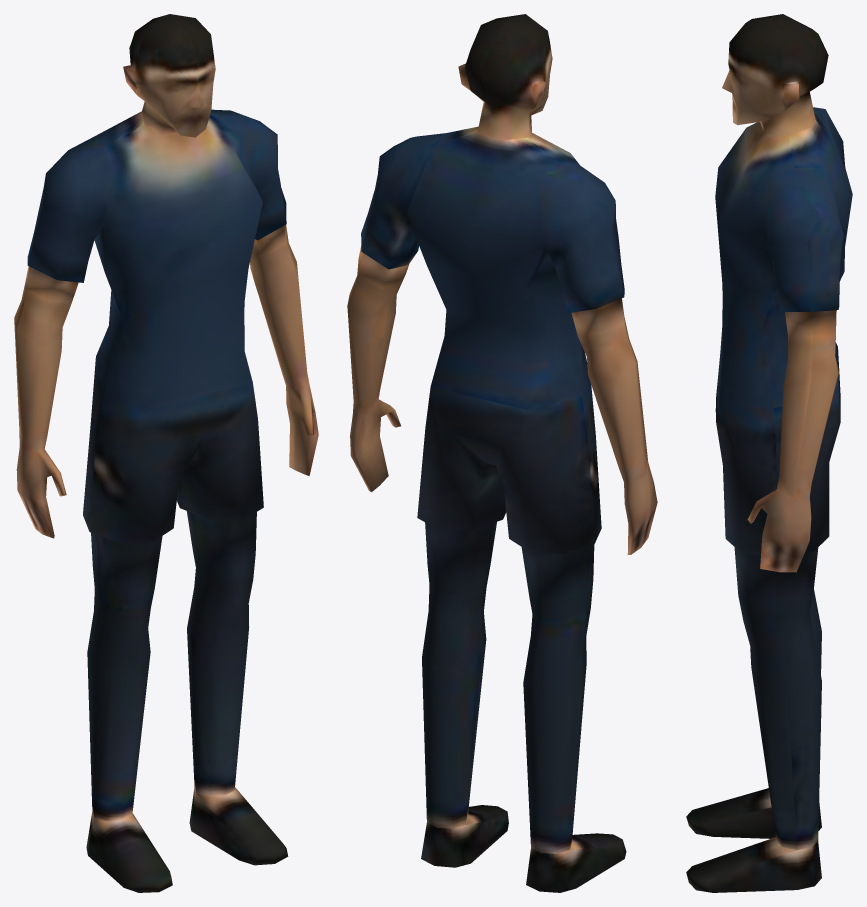
The model's file is NPC.fbx.
3 views of the same model, side by side, from view 1: azimuth 30°, elevation 25°; view 2: azimuth 150°, elevation 25°; view 3: azimuth 270°, elevation 25° (orthographic).
Parts seen in each view (by area): view 1: NPC1.001; view 2: NPC1.001; view 3: NPC1.001.
Boxes of the visible parts, x1=… form: NPC1.001: x1=14, y1=14, x2=318, y2=892; NPC1.001: x1=347, y1=14, x2=657, y2=892; NPC1.001: x1=686, y1=14, x2=852, y2=892.
Size of the model in its own units: 65.15 by 180 by 32.41.
